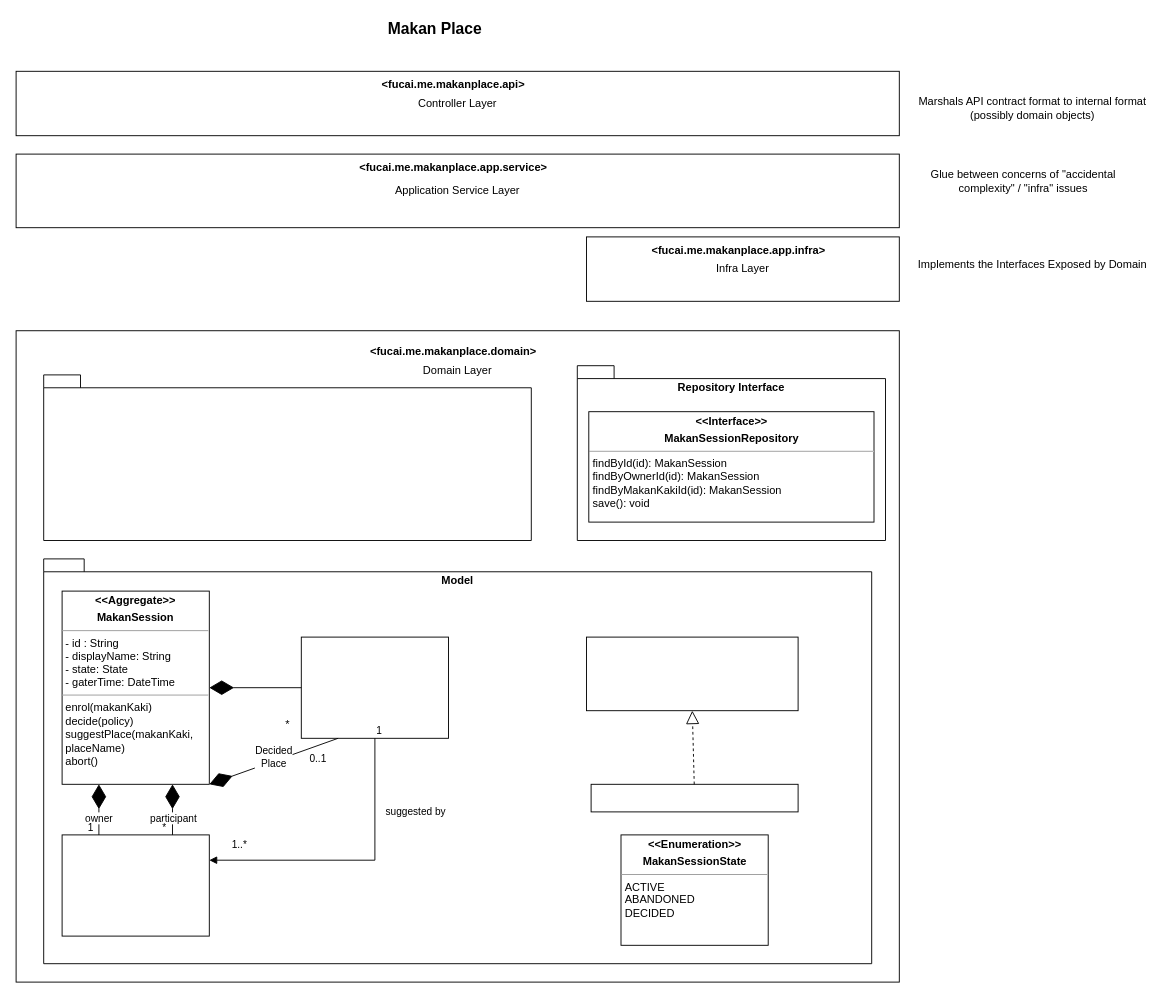
The diagram is 1168 pixels wide and 998 high, and some of its shapes have lost their labels. The centre of each missing label's shape, as x and y in pixels:
<<Interface>> DecisionPolicy decide(MakanSession) : MakanSession: point (692, 673)
<<ValueObject>> MakanKaki - id: String - displayName: String: point (135, 885)
<<ValueObject>> MakanPlace - placeName: String: point (374, 687)
Domain Services: point (287, 457)
RandomSelectionDecisionPolicy: point (694, 797)
